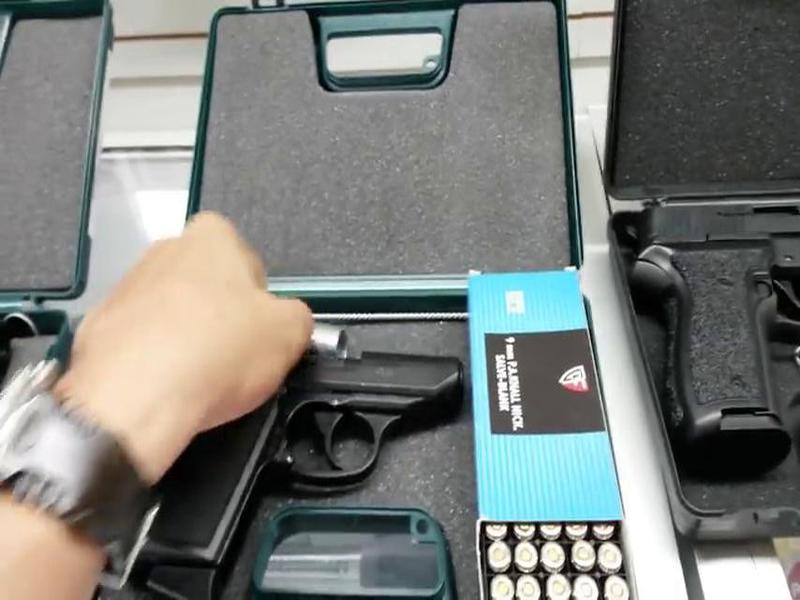Pistola: (107, 319, 501, 574)
